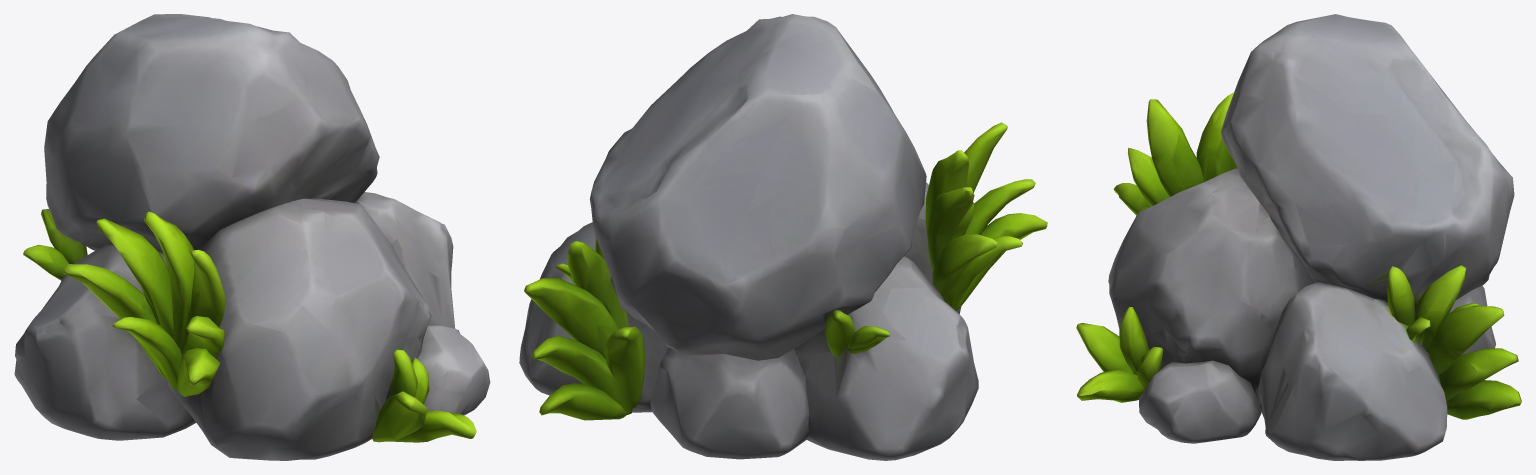
Rendered from rock_boulders.glb.
3 views of the same model, side by side, from view 1: azimuth 30°, elevation 25°; view 2: azimuth 150°, elevation 25°; view 3: azimuth 270°, elevation 25° (orthographic). The views are drawn at different scales.
Parts seen in each view (by area): view 1: tripo_node_1c38d9d4-8838-4281-96e6-ea5506918835; view 2: tripo_node_1c38d9d4-8838-4281-96e6-ea5506918835; view 3: tripo_node_1c38d9d4-8838-4281-96e6-ea5506918835.
Boxes of the visible parts, bbox=[...] form: tripo_node_1c38d9d4-8838-4281-96e6-ea5506918835: bbox=[14, 14, 490, 460]; tripo_node_1c38d9d4-8838-4281-96e6-ea5506918835: bbox=[519, 14, 1047, 460]; tripo_node_1c38d9d4-8838-4281-96e6-ea5506918835: bbox=[1076, 14, 1521, 460].
Bounding box in the file's own units: 0.9506 × 0.7999 × 0.9699.
1 material, 1 textured.
